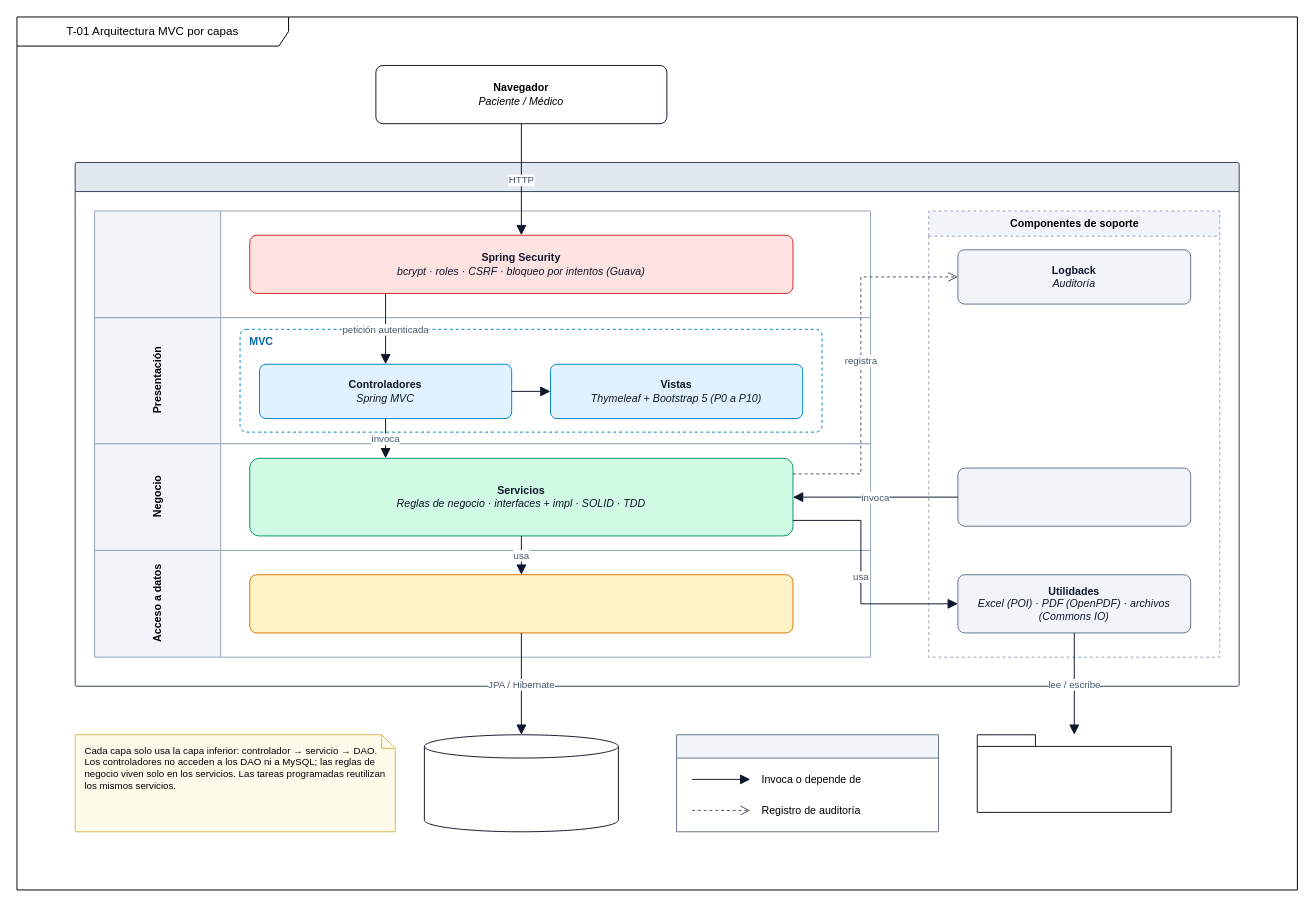
Image size: 1314x907. Some labels were removed from this diagram. The box of each missing label's shape, as (x1, y1, x2, y2) in pixels:
Aplicación Spring Boot (monolito · localhost:8080): (74, 162, 1239, 686)
Carpeta local uploads/comprobantes: (976, 734, 1171, 812)
DAO Interfaces *Dao que extienden JpaRepository: (249, 574, 793, 633)
Leyenda: (676, 734, 938, 832)
MySQL 8.4 InnoDB · utf8mb4: (423, 734, 618, 832)
Seguridad: (94, 210, 871, 318)
Tareas programadas Vencimiento de 15 min · generación de bloques: (957, 467, 1191, 526)
